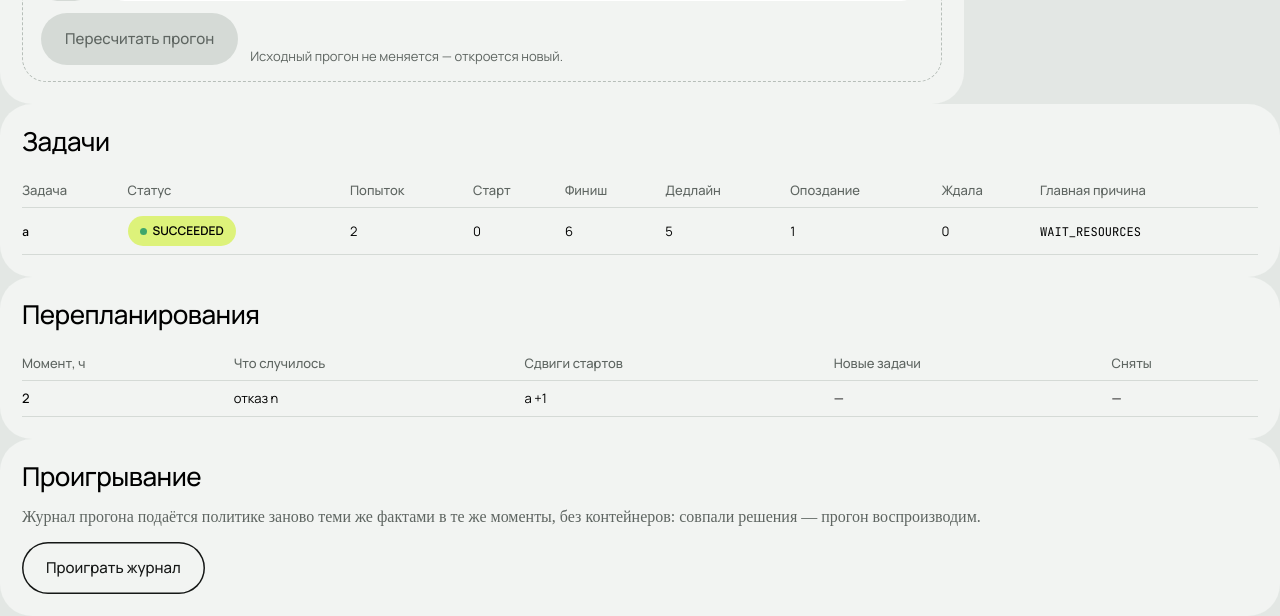
Test: RunPage › replays a run and shows its plan next to the fact
(page scrolled)
Click the button "Проиграть журнал".
click(113, 568)  # box [22,542,205,594]
(page scrolled)
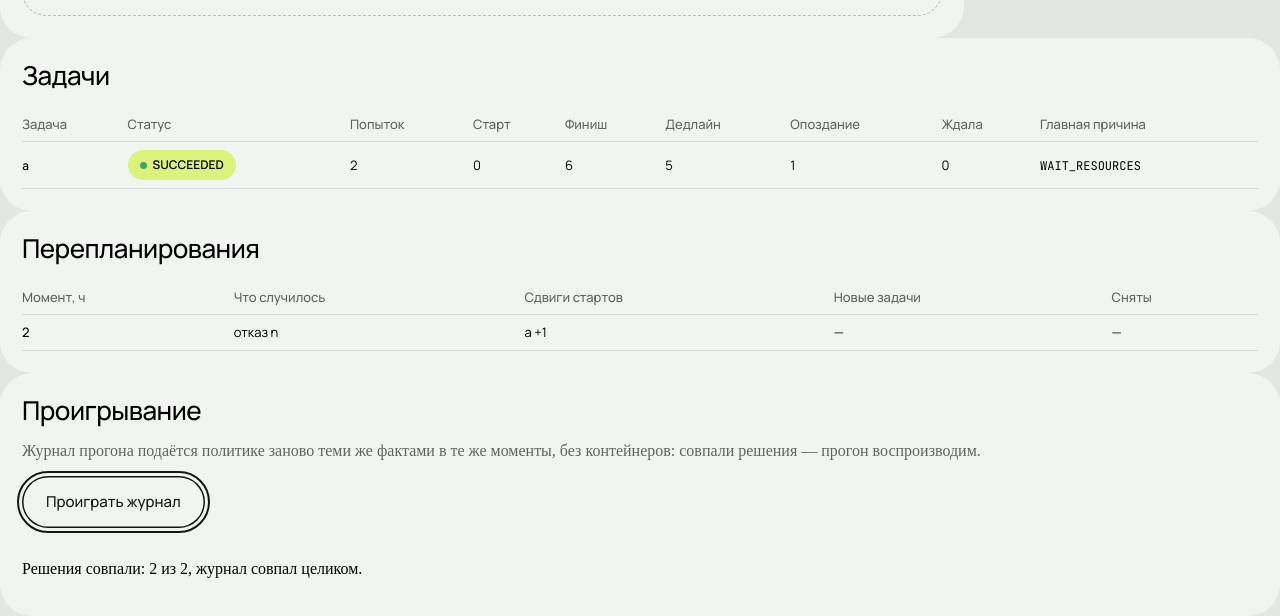
Check: the message reads "Решения совпали: 2 из 2, журнал совпал целиком.", box [22,560,362,577]
